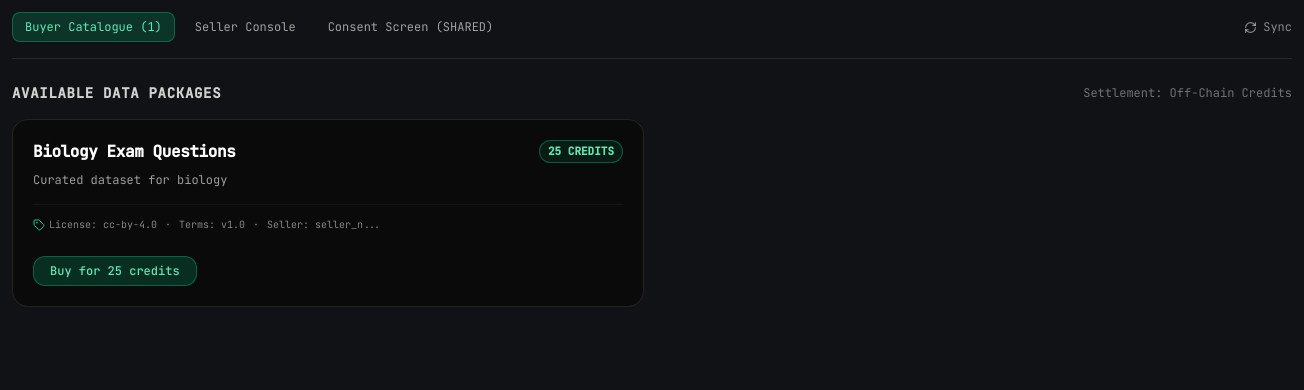
Test: MarketplaceView and MarketplaceStatusCard › renders buyer catalogue and executes buy flow
The image size is (1304, 390).
Expected: the heading "Biology Exam Questions" is shown, [33, 140, 235, 164]
Expected: the text "25 CREDITS" is shown, [539, 140, 623, 162]
Click the button "Buy for 25 credits". click: (115, 271)
box: [33, 256, 197, 286]
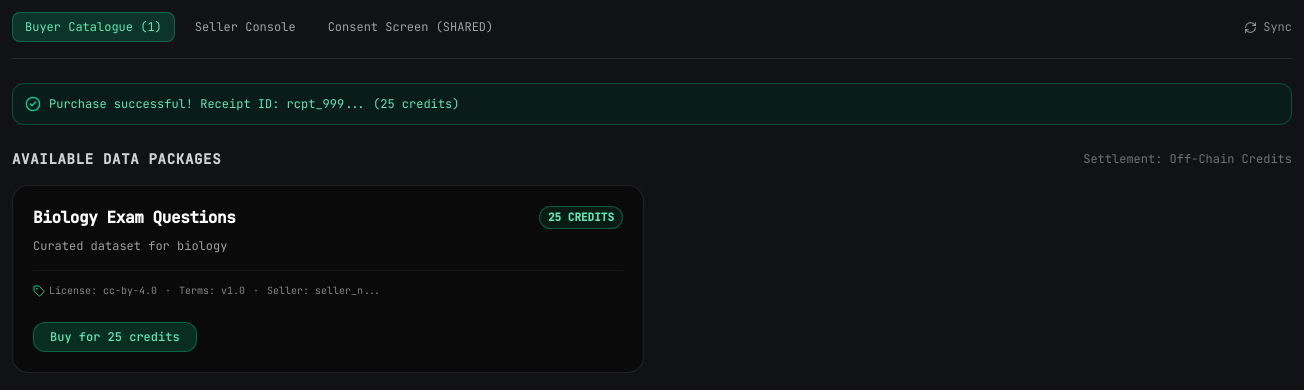
Now the text "Purchase successful! Receipt ID: rcpt_999... (25 credits)" is shown, box [49, 96, 459, 112]
